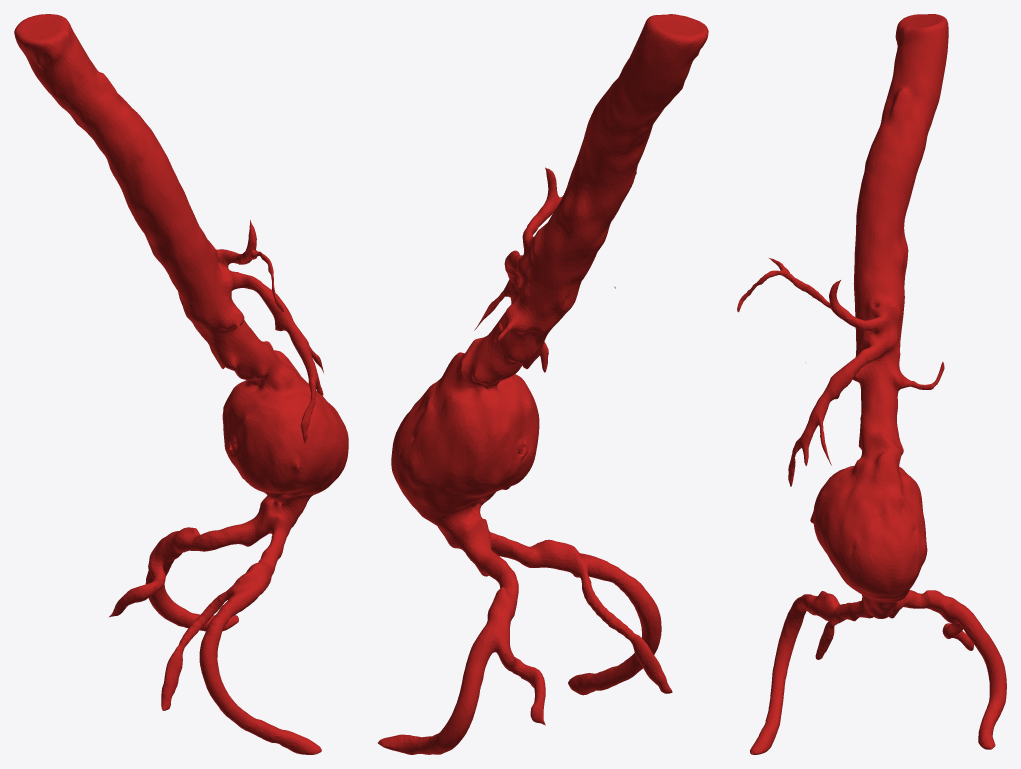
3 renders of one model, left to right at view 1: azimuth 30°, elevation 25°; view 2: azimuth 150°, elevation 25°; view 3: azimuth 270°, elevation 25°, orthographic. The views are drawn at different scales.
Visible parts, largest first — view 1: grp1; view 2: grp1; view 3: grp1.
Boxes of the visible parts, left/top/right/bottom form: grp1: left=14, top=14, right=348, bottom=754; grp1: left=378, top=14, right=708, bottom=754; grp1: left=737, top=14, right=1006, bottom=754.
Bounding box in the file's own units: 1.42 × 3.23 × 1.21.
